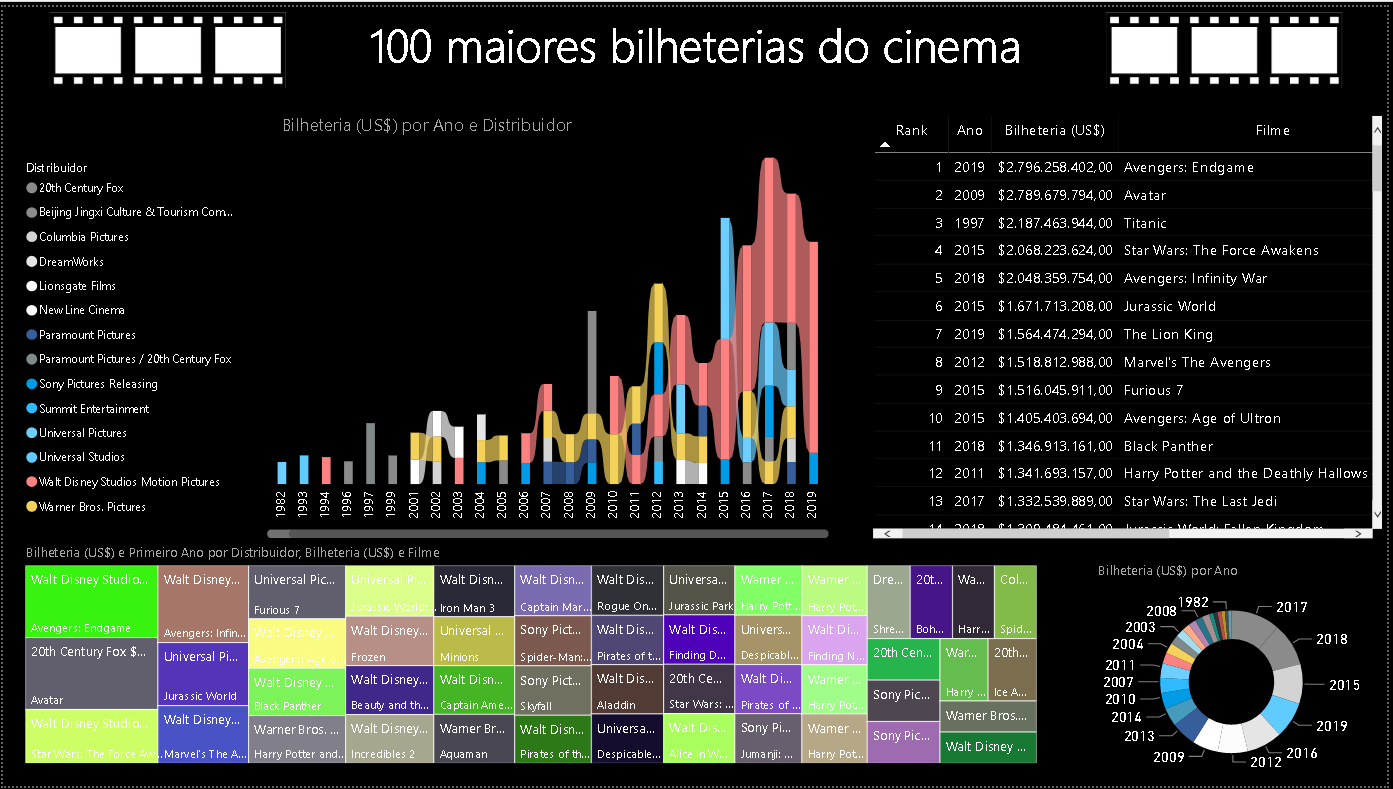

The page's visual inventory and layout, read from the dashboard file:
{"tool":"powerbi","page":{"name":"Página 1","canvas":[1280,720],"ordinal":0},"visuals":[{"type":"image","box":[0,0,304,80],"z":7},{"type":"ribbonChart","fields":{"Category":["Maiores bilheterias mundiais.Ano"],"Series":["Maiores bilheterias mundiais.Distribuidor"],"Y":["Sum(Maiores bilheterias mundiais.Bilheteria (US$))"]},"box":[16,96,752,400],"z":1000},{"type":"textbox","box":[328,0,624,80],"z":2000},{"type":"treemap","fields":{"Values":["Sum(Maiores bilheterias mundiais.Bilheteria (US$))"],"Group":["Maiores bilheterias mundiais.Distribuidor","Maiores bilheterias mundiais.Bilheteria (US$)","Maiores bilheterias mundiais.Ano"],"Details":["Maiores bilheterias mundiais.Filme"]},"box":[16,496,944,208],"z":3000},{"type":"tableEx","fields":{"Values":["Sum(Maiores bilheterias mundiais.Ranking)","Maiores bilheterias mundiais.Ano","Maiores bilheterias mundiais.Bilheteria (US$)","Maiores bilheterias mundiais.Filme","Maiores bilheterias mundiais.Distribuidor"]},"box":[800,96,480,400],"z":4000},{"type":"donutChart","fields":{"Category":["Maiores bilheterias mundiais.Ano"],"Y":["Sum(Maiores bilheterias mundiais.Bilheteria (US$))"]},"box":[1008,512,256,208],"z":5000},{"type":"image","box":[976,0,304,80],"z":5001}]}

Visuals, with their boxes in screenshot pixels (x1, y1, x2, y2), scaled from the page's 1280x720 canvas onto the 1393x789 screenshot:
image: {"left": 0, "top": 0, "right": 331, "bottom": 88}
ribbonChart - Maiores bilheterias mundiais.Ano x Maiores bilheterias mundiais.Distribuidor: {"left": 17, "top": 105, "right": 836, "bottom": 544}
textbox: {"left": 357, "top": 0, "right": 1036, "bottom": 88}
treemap - Sum(Maiores bilheterias mundiais.Bilheteria (US$)) x Maiores bilheterias mundiais.Distribuidor: {"left": 17, "top": 544, "right": 1045, "bottom": 771}
tableEx - Sum(Maiores bilheterias mundiais.Ranking) x Maiores bilheterias mundiais.Ano: {"left": 871, "top": 105, "right": 1392, "bottom": 544}
donutChart - Maiores bilheterias mundiais.Ano x Sum(Maiores bilheterias mundiais.Bilheteria (US$)): {"left": 1097, "top": 561, "right": 1376, "bottom": 788}
image: {"left": 1062, "top": 0, "right": 1392, "bottom": 88}
